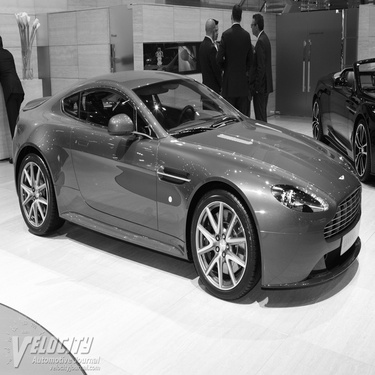car: (11, 65, 366, 308), (285, 52, 372, 190)
